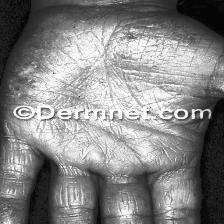Non-Cancerous Skin Condition: (39, 0, 183, 96)
